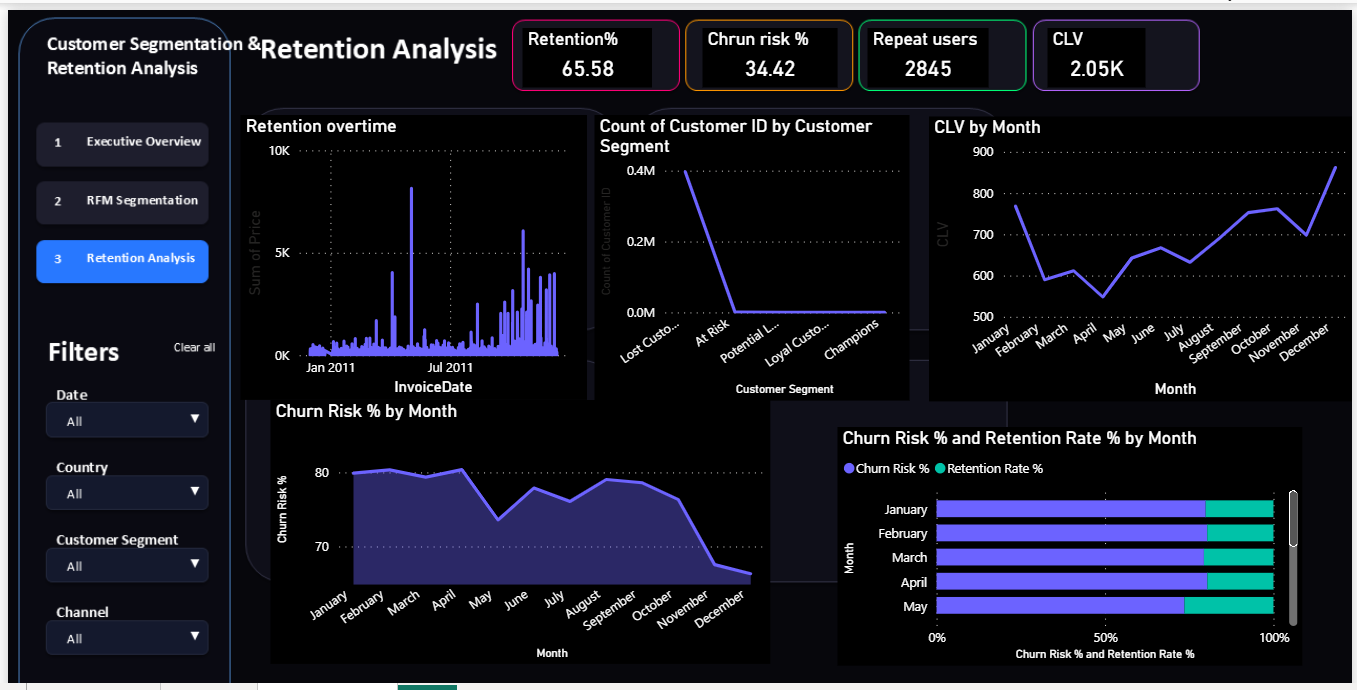

This screenshot's page, from the dashboard's own definition file:
{"tool":"powerbi","page":{"name":"Retention","canvas":[1280,720],"ordinal":2},"visuals":[{"type":"lineChart","title":"Retention overtime","fields":{"Category":["Year 2010-2011.InvoiceDate"],"Y":["Sum(Year 2010-2011.Price)"]},"box":[221.4,100,330,271.4],"z":0},{"type":"areaChart","fields":{"Category":["Year 2010-2011.InvoiceDate.Variation.Date Hierarchy.Month"],"Y":["Year 2010-2011.Churn Risk %"]},"box":[250,371.4,475.7,251.4],"z":1000},{"type":"lineChart","fields":{"Category":["Year 2010-2011.Customer Segment"],"Y":["CountNonNull(Year 2010-2011.Customer ID)"]},"box":[558.3,100,300,271.7],"z":2000},{"type":"hundredPercentStackedBarChart","fields":{"Y":["Year 2010-2011.Churn Risk %","Year 2010-2011.Retention Rate %"],"Category":["Year 2010-2011.InvoiceDate.Variation.Date Hierarchy.Month"]},"box":[790,397.1,442.9,227.1],"z":3000},{"type":"lineChart","fields":{"Category":["Year 2010-2011.InvoiceDate.Variation.Date Hierarchy.Month"],"Y":["Year 2010-2011.CLV"]},"box":[877.1,101.4,402.9,271.4],"z":4000},{"type":"card","title":"Retention%","fields":{"Values":["Year 2010-2011.Retention Rate %"]},"box":[490,16.7,123.3,56.7],"z":5000},{"type":"card","title":"Chrun risk %","fields":{"Values":["Year 2010-2011.Churn Risk %"]},"box":[661.7,16.7,128.3,56.7],"z":6000},{"type":"card","title":"Repeat users","fields":{"Values":["Year 2010-2011.Repeat Customers"]},"box":[818.3,16.7,115,56.7],"z":7000},{"type":"card","title":"CLV","fields":{"Values":["Year 2010-2011.CLV"]},"box":[990,16.7,93.3,56.7],"z":8000}]}

Visuals, with their boxes on the page's 1280x720 design canvas (x1, y1, x2, y2). These are canvas units, not pixel positions in the 1357x690 screenshot, which may show the page scaled, cropped or inside an application window:
"Retention overtime" lineChart: x1=221, y1=100, x2=551, y2=371
areaChart - Year 2010-2011.InvoiceDate.Variation.Date Hierarchy.Month x Year 2010-2011.Churn Risk %: x1=250, y1=371, x2=726, y2=623
lineChart - Year 2010-2011.Customer Segment x CountNonNull(Year 2010-2011.Customer ID): x1=558, y1=100, x2=858, y2=372
hundredPercentStackedBarChart - Year 2010-2011.Churn Risk % x Year 2010-2011.Retention Rate %: x1=790, y1=397, x2=1233, y2=624
lineChart - Year 2010-2011.InvoiceDate.Variation.Date Hierarchy.Month x Year 2010-2011.CLV: x1=877, y1=101, x2=1280, y2=373
"Retention%" card: x1=490, y1=17, x2=613, y2=73
"Chrun risk %" card: x1=662, y1=17, x2=790, y2=73
"Repeat users" card: x1=818, y1=17, x2=933, y2=73
"CLV" card: x1=990, y1=17, x2=1083, y2=73
